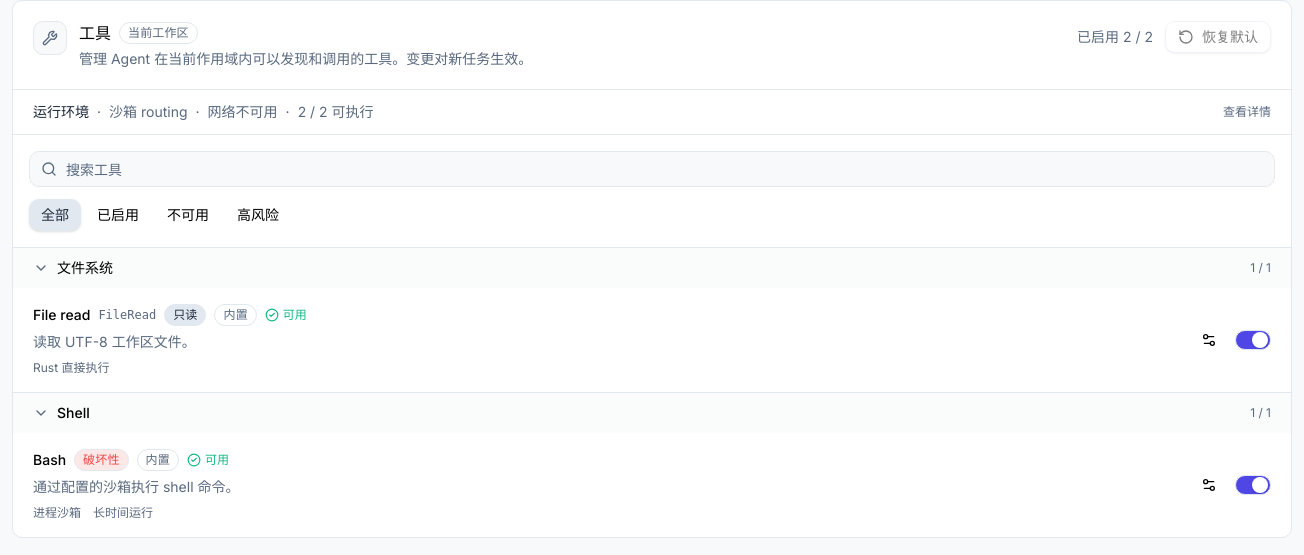
Test case: RuntimeToolsSettings › collapses and expands each tool group independently
Step 1. Click the button "文件系统 1 / 1" → coordinates (85, 268), box [13,248,1291,288]
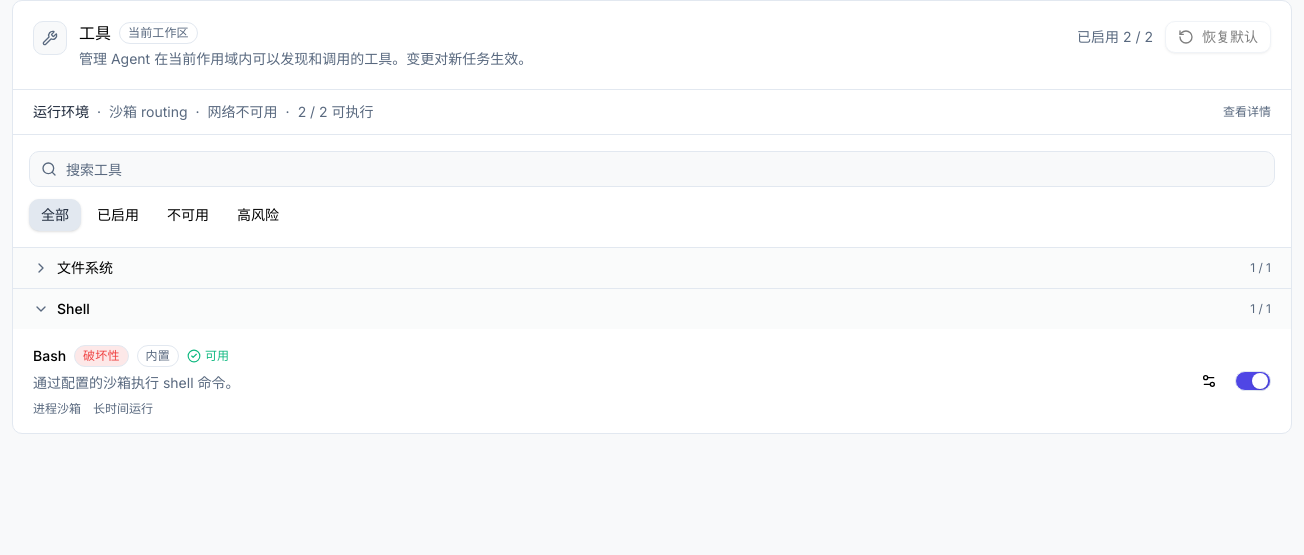
Check: the text "Bash" is shown, box [33,346,66,366]
Check: the button "文件系统 1 / 1" is collapsed
Check: the text "File read" is gone
Step 2. Click the button "文件系统 1 / 1" → coordinates (85, 268), box [13,248,1291,288]
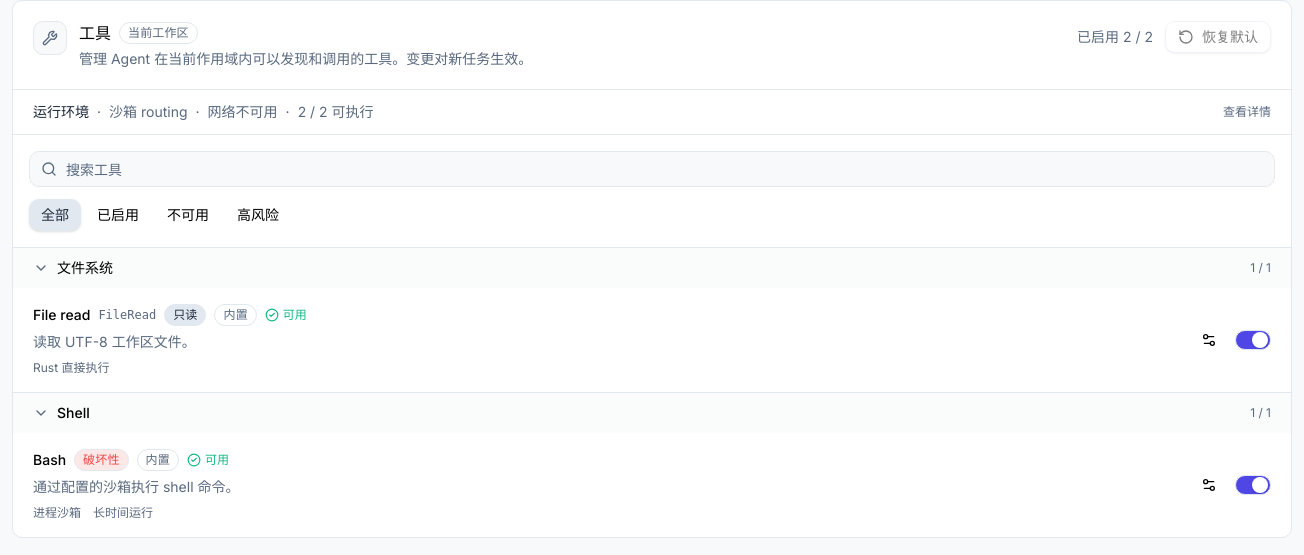
Check: the text "File read" is shown, box [33,305,90,325]
